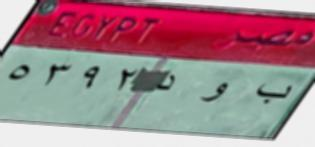2: (112, 59, 137, 96)
3: (42, 59, 72, 91)
5: (4, 58, 32, 85)
9: (79, 60, 103, 94)
baa: (251, 79, 295, 109)
daal: (152, 64, 178, 100)
waw: (196, 77, 232, 108)
